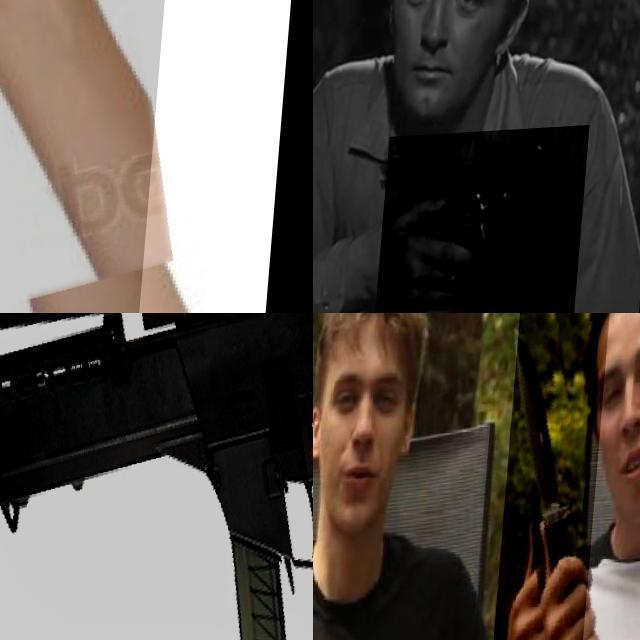-: (0, 0, 256, 313), (499, 313, 612, 640)
gun-knife-thesis - v11 Yolov5 augmented: (0, 313, 313, 640), (382, 132, 595, 313)
